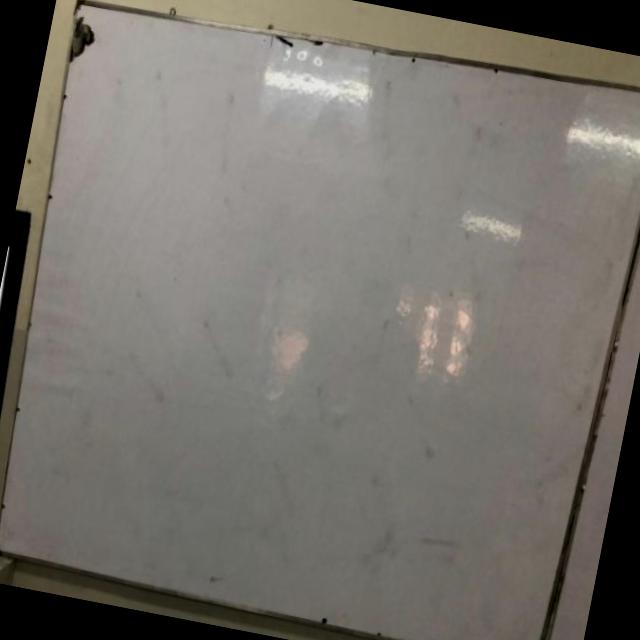White-board: (1, 1, 640, 640)
